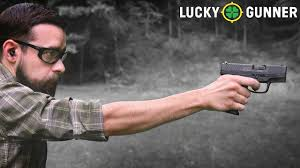Gun: (220, 63, 289, 105)
